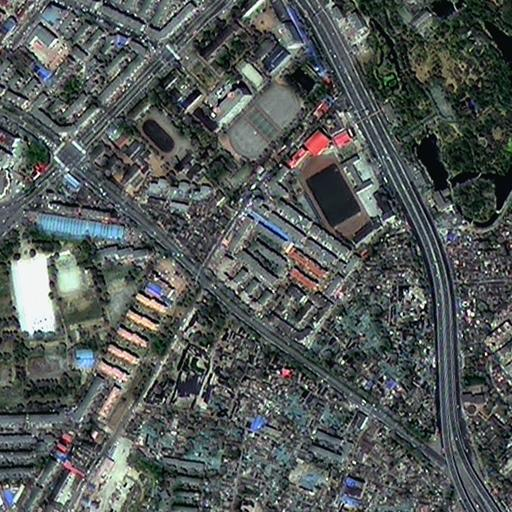school: (270, 125, 383, 243), (85, 104, 188, 187)
